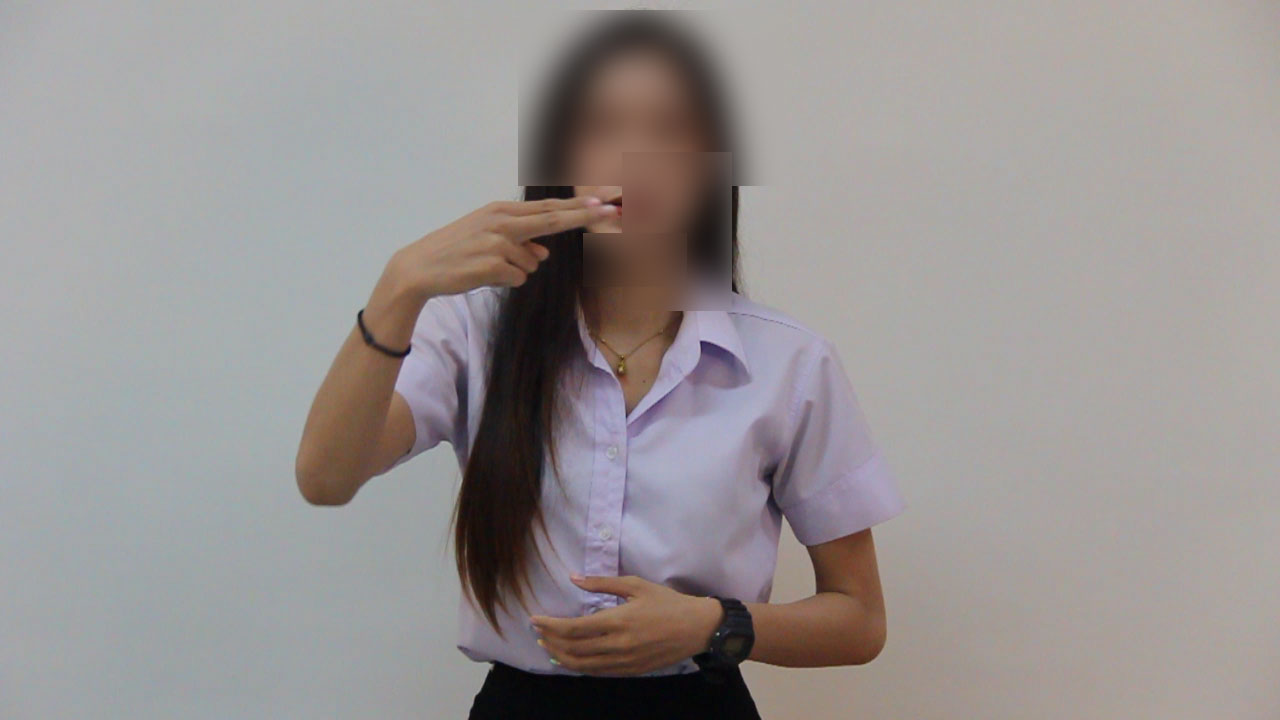hor: (402, 186, 624, 305)
